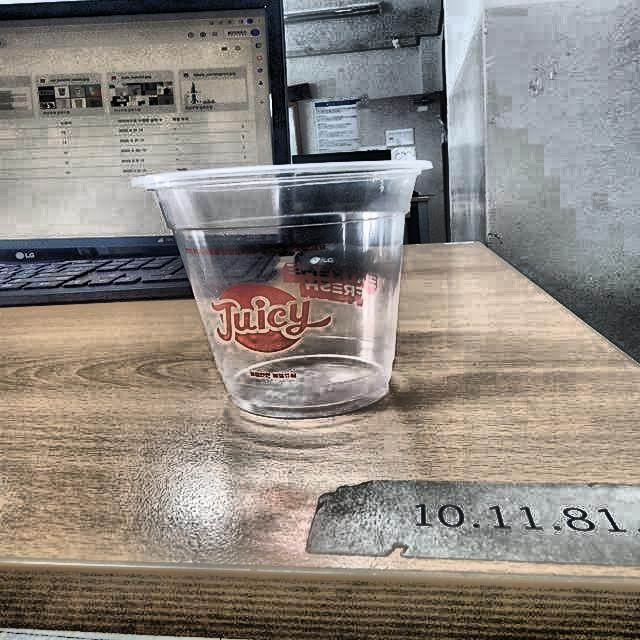plastic cup: (131, 158, 433, 418)
